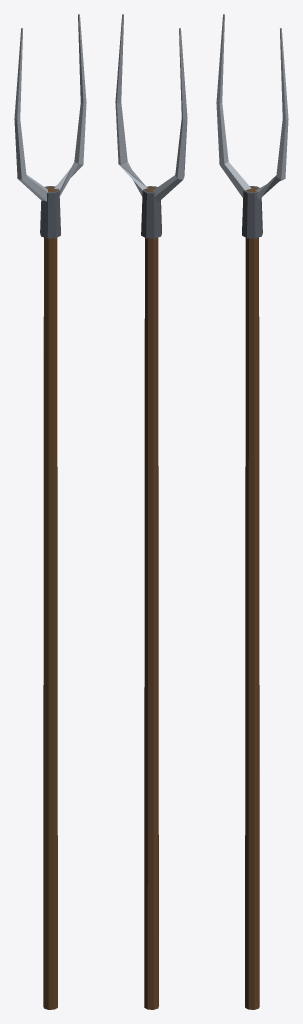
The model's file is g-trident-fork.glb.
3 views of the same model, side by side, from view 1: azimuth 30°, elevation 25°; view 2: azimuth 150°, elevation 25°; view 3: azimuth 330°, elevation 25° (orthographic).
Visible parts, largest first — view 1: g-trident-fork; view 2: g-trident-fork; view 3: g-trident-fork.
Boxes of the visible parts, <box> form: g-trident-fork: <box>14,14,86,1009</box>; g-trident-fork: <box>115,14,187,1009</box>; g-trident-fork: <box>216,14,288,1009</box>.
Size of the model in its own units: 0.1507 by 1.99 by 0.04.
